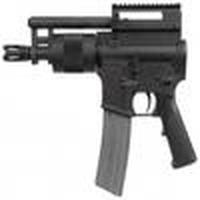gun: (1, 1, 200, 130)
